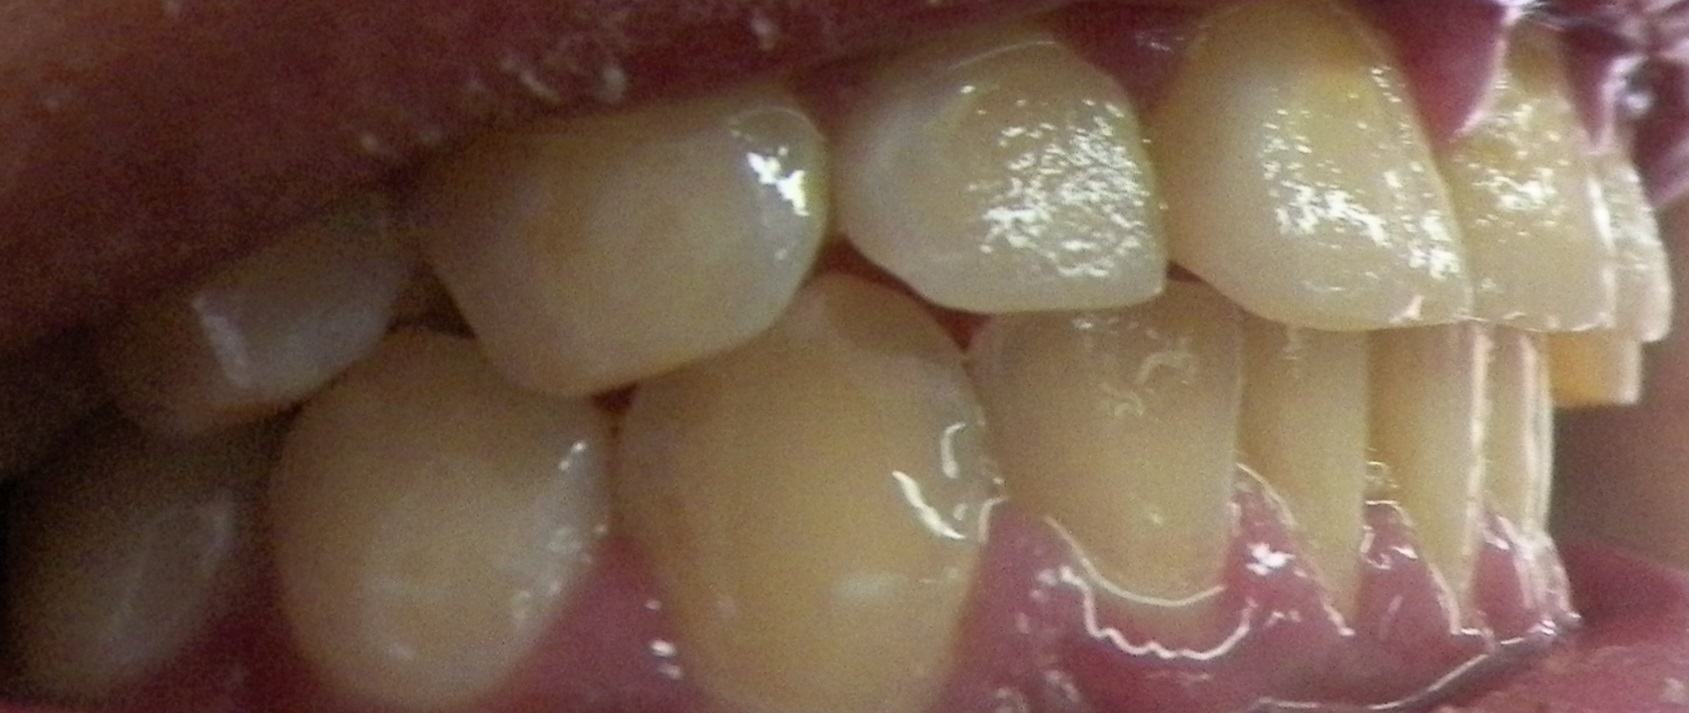boca: (46, 27, 1685, 699)
